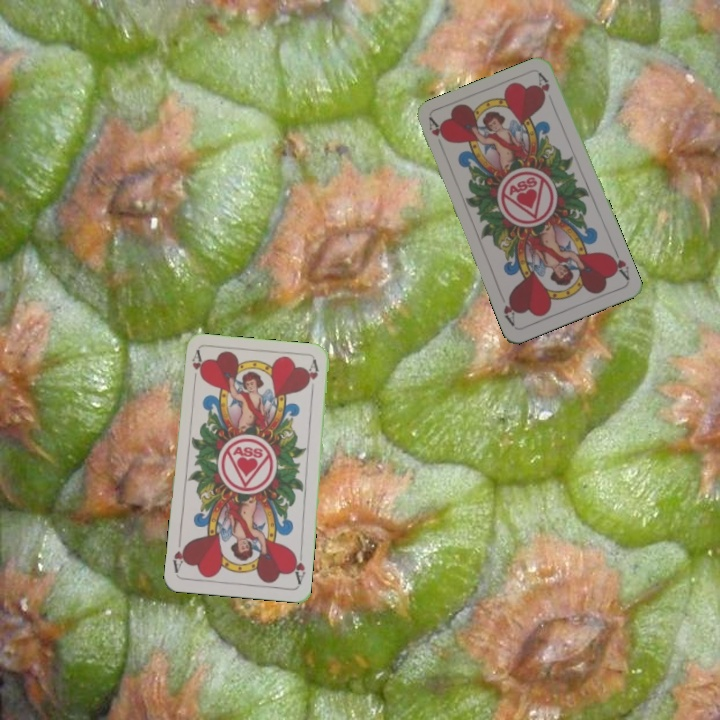HA: (605, 244, 632, 283), (425, 114, 450, 154), (288, 546, 308, 587), (187, 347, 206, 388)
